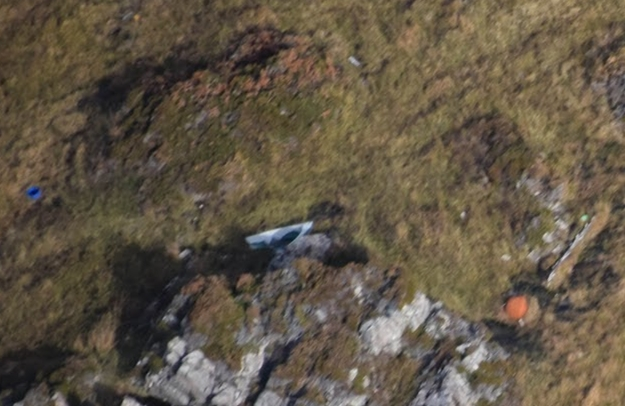straight_bar: (242, 215, 317, 248)
white_in_green: (479, 268, 556, 337), (2, 162, 67, 223)
